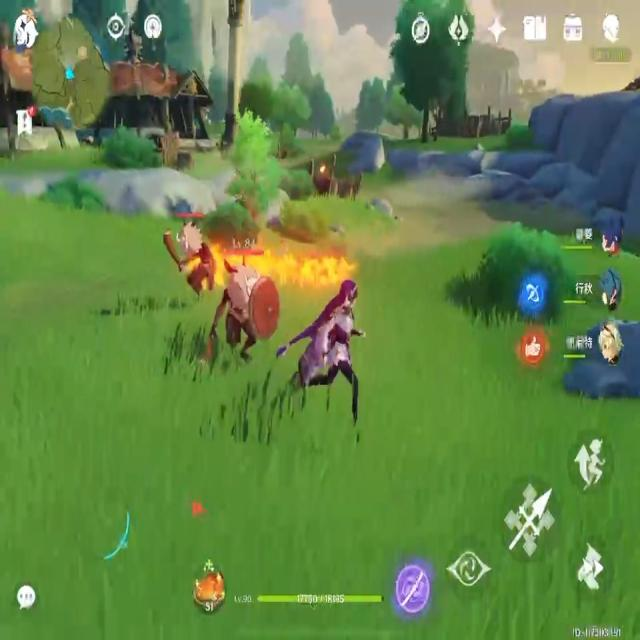genshin-hilichurls: (220, 256, 278, 368), (169, 220, 215, 298)
